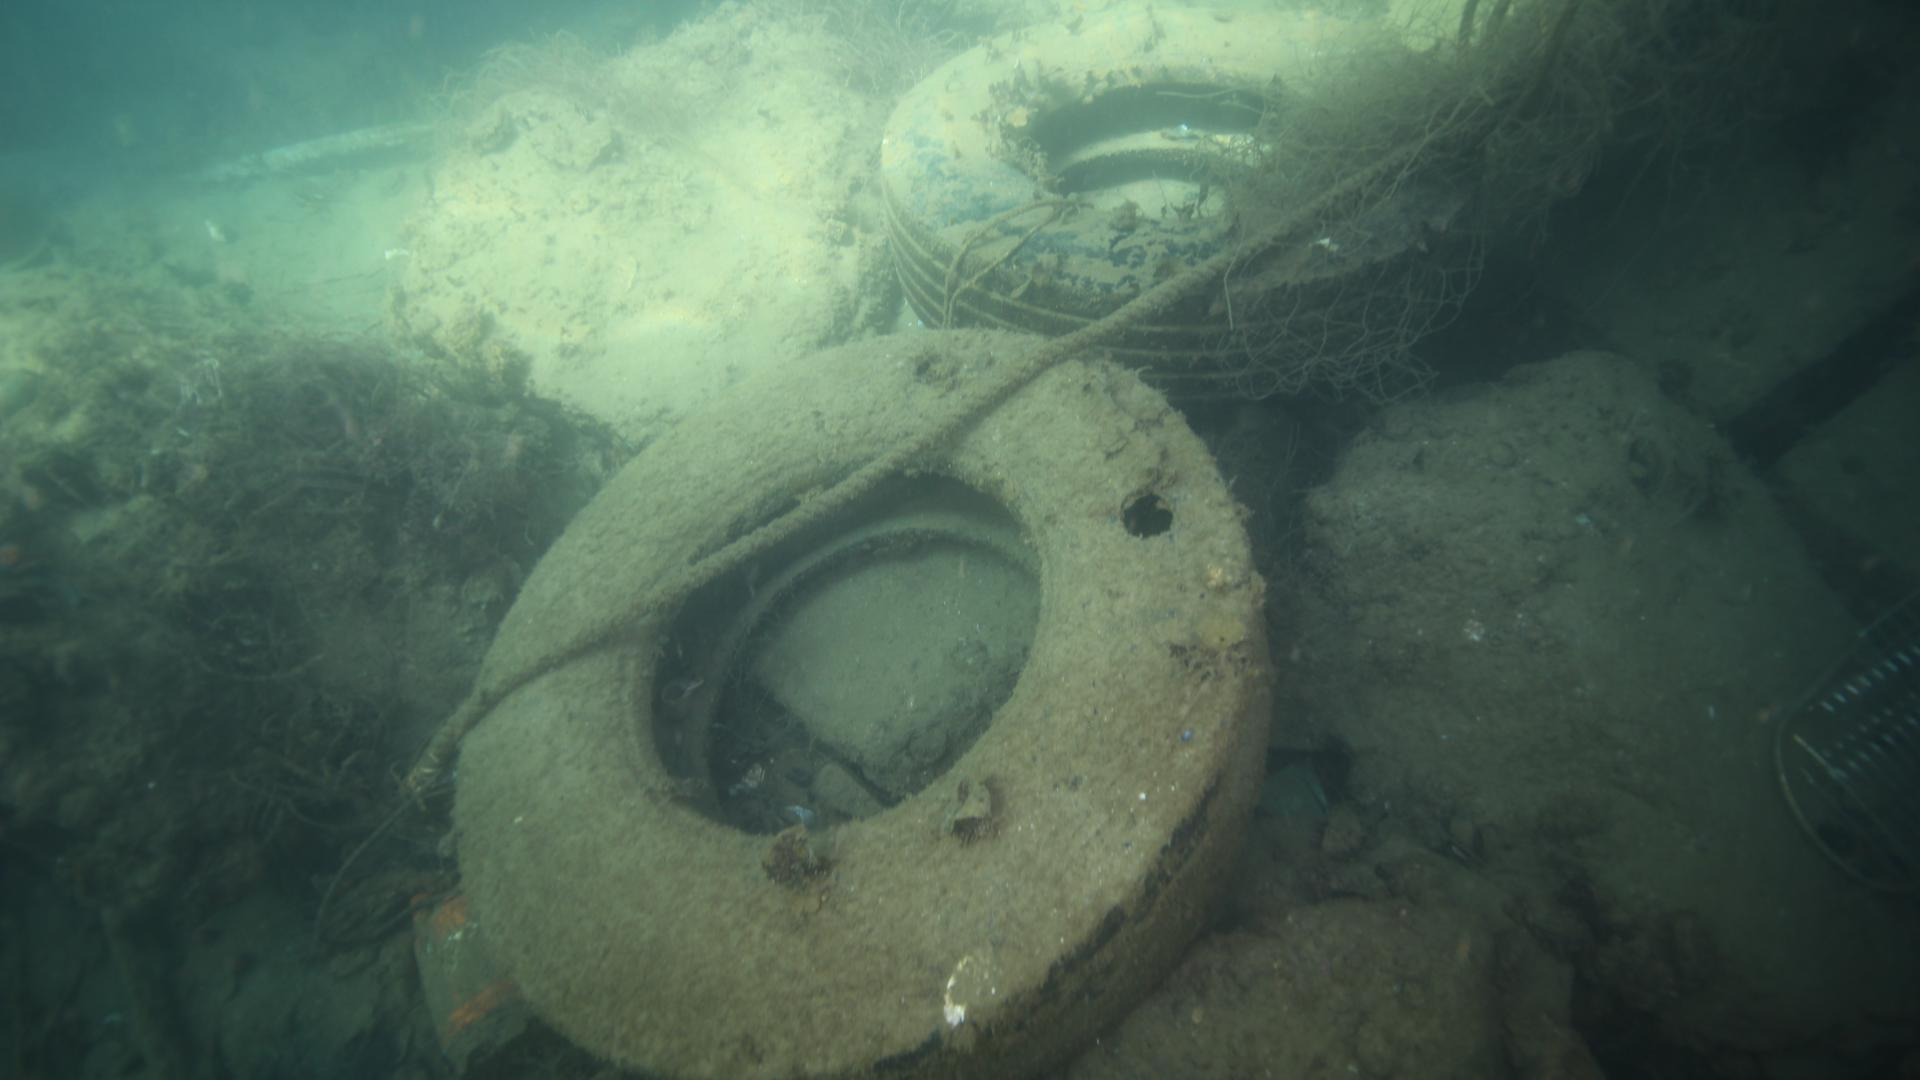rope: (407, 123, 1458, 793)
tire: (447, 330, 1279, 1080), (874, 9, 1495, 390)
